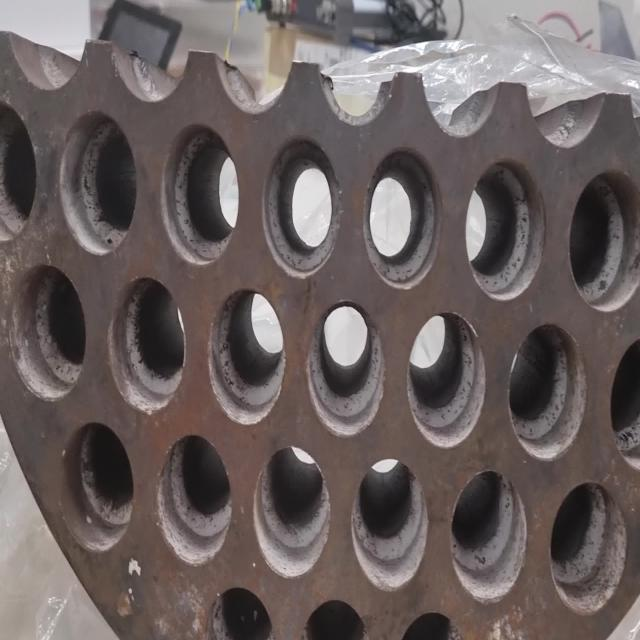Hole: (58, 108, 138, 256), (465, 157, 546, 301), (262, 135, 342, 279), (160, 122, 239, 267), (406, 310, 486, 449), (7, 262, 87, 401), (507, 322, 587, 461), (363, 145, 440, 289), (306, 299, 385, 438), (208, 286, 286, 426), (108, 276, 186, 414), (252, 444, 331, 578), (550, 480, 627, 616), (450, 468, 527, 604), (350, 458, 428, 592), (568, 168, 640, 312), (156, 432, 232, 568), (62, 421, 135, 553), (0, 100, 38, 240), (610, 333, 640, 472), (209, 584, 275, 640), (300, 598, 370, 640)
